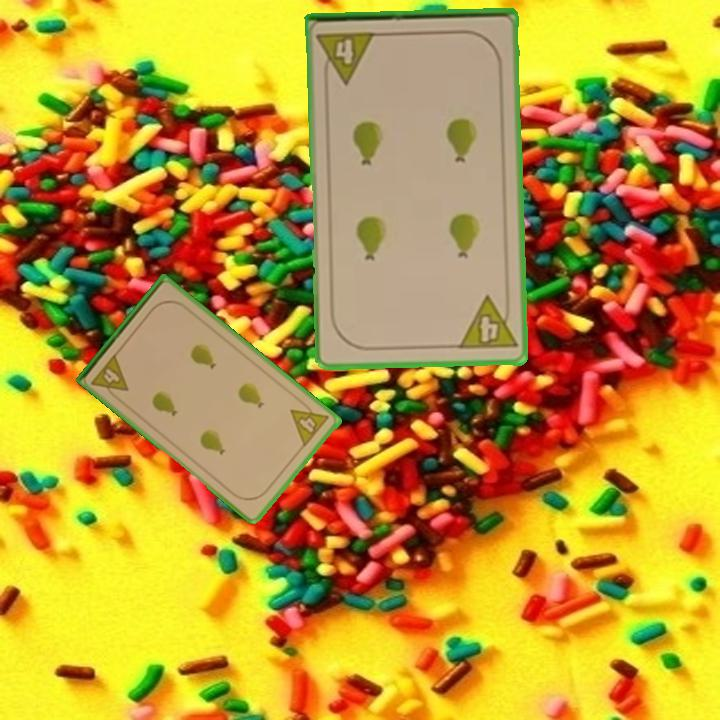4p: (455, 292, 520, 353), (314, 28, 379, 86), (287, 396, 332, 450), (87, 350, 132, 403)
